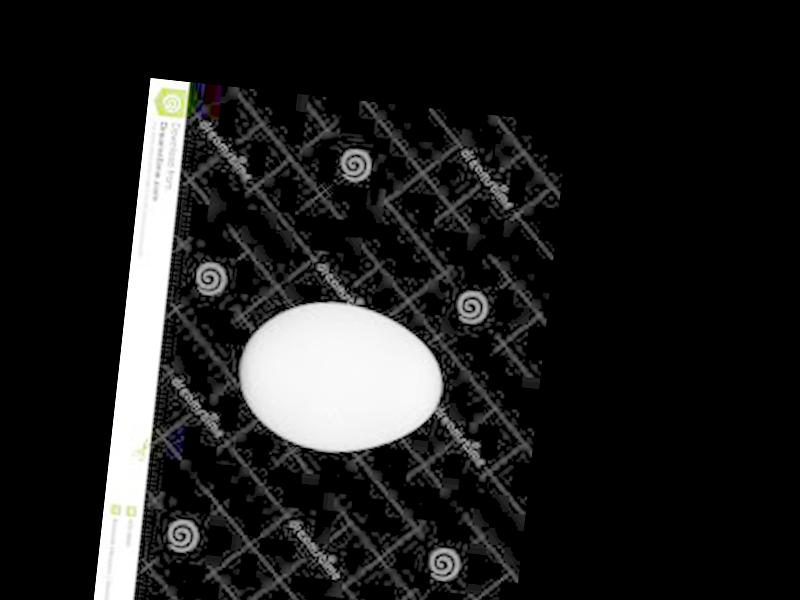Eggs: (232, 295, 448, 465)
